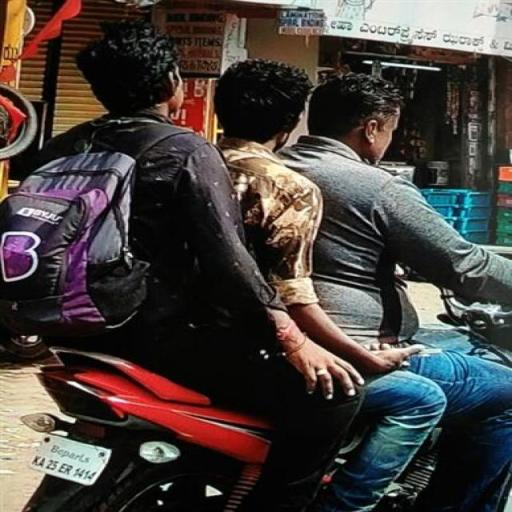tripple riding: (5, 19, 512, 387)
